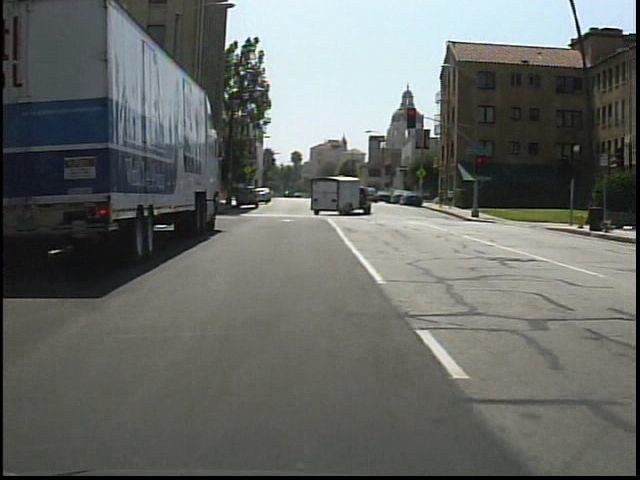person: (446, 184, 458, 210), (436, 184, 448, 209)
